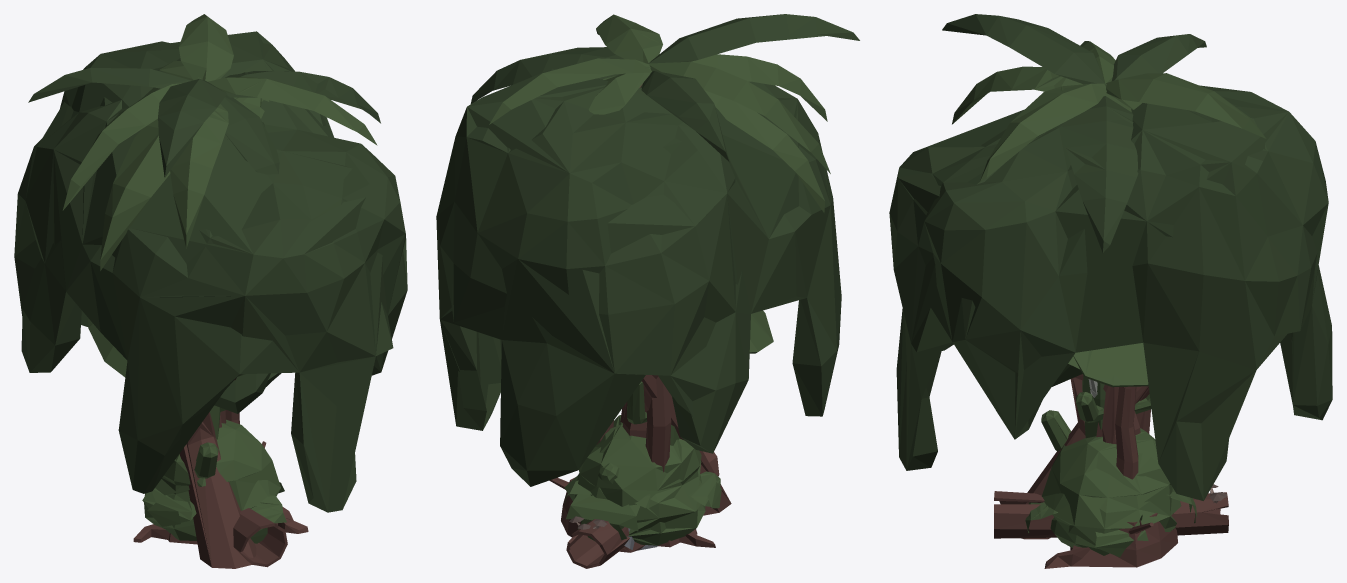
The model's file is ultimate-nature-props.glb.
3 renders of one model, left to right at view 1: azimuth 30°, elevation 25°; view 2: azimuth 150°, elevation 25°; view 3: azimuth 270°, elevation 25°, orthographic. The views are drawn at different scales.
Visible parts, largest first — view 1: willow-near, palm-near, willow-far, shrub-near, fern-near, fallen-log-near, birch-near, shrub-far, cactus-near, conifer-near, stump-near, palm-far (+1 smaller); view 2: willow-near, willow-far, palm-near, shrub-near, shrub-far, fern-near, fallen-log-near, cactus-near, conifer-near, fallen-log-far, stump-near, palm-far; view 3: willow-near, willow-far, palm-near, shrub-near, fallen-log-near, shrub-far, conifer-near, cactus-near, stump-near, dead-tree-near, fern-near, stump-far (+2 smaller).
Boxes of the visible parts, x1,y1,x2,y2 form: willow-near: (14, 32, 407, 568); palm-near: (28, 14, 380, 270); willow-far: (14, 31, 407, 565); shrub-near: (144, 420, 280, 540); fern-near: (142, 482, 286, 543); fallen-log-near: (234, 508, 287, 567); birch-near: (214, 97, 270, 413); shrub-far: (144, 460, 280, 517); cactus-near: (194, 405, 225, 478); conifer-near: (88, 318, 197, 544); stump-near: (133, 441, 308, 542); palm-far: (64, 41, 363, 208); willow-near: (436, 70, 841, 515); willow-far: (440, 68, 829, 502); palm-near: (470, 14, 859, 472); shrub-near: (564, 415, 705, 545); shrub-far: (575, 416, 701, 545); fern-near: (564, 471, 721, 541); fallen-log-near: (566, 473, 719, 568); cactus-near: (598, 381, 679, 484); conifer-near: (626, 310, 773, 534); fallen-log-far: (570, 451, 719, 565); stump-near: (549, 477, 715, 552); palm-far: (493, 29, 825, 129); willow-near: (889, 85, 1332, 539); willow-far: (898, 103, 1328, 538); palm-near: (942, 14, 1266, 433); shrub-near: (1042, 428, 1181, 555); fallen-log-near: (994, 484, 1228, 537); shrub-far: (1041, 439, 1176, 545); conifer-near: (1073, 343, 1148, 426); cactus-near: (1041, 376, 1151, 451); stump-near: (1044, 513, 1177, 568); dead-tree-near: (1115, 386, 1138, 477); fern-near: (1025, 492, 1197, 557); stump-far: (1045, 522, 1136, 568).
Size of the model in its own units: 1.06 by 1.45 by 1.21.
